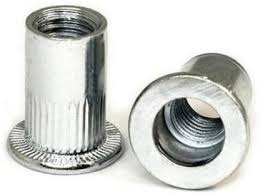Thread: (142, 93, 238, 174), (26, 7, 109, 44)
